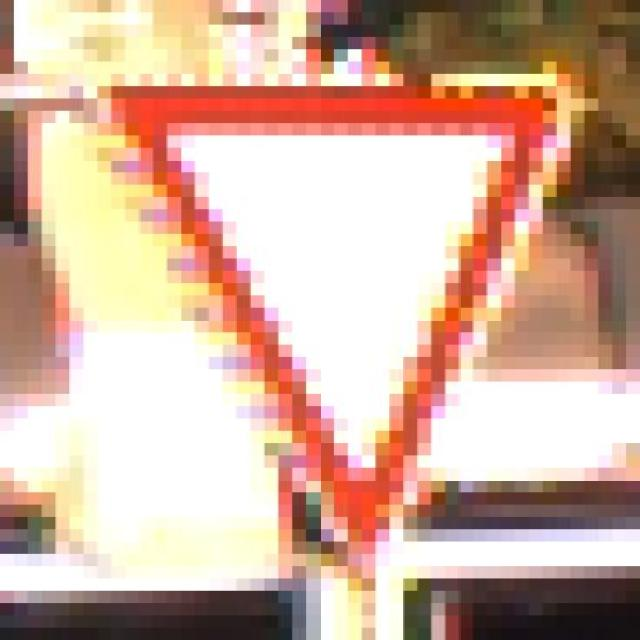Give Way: (56, 49, 598, 616)
